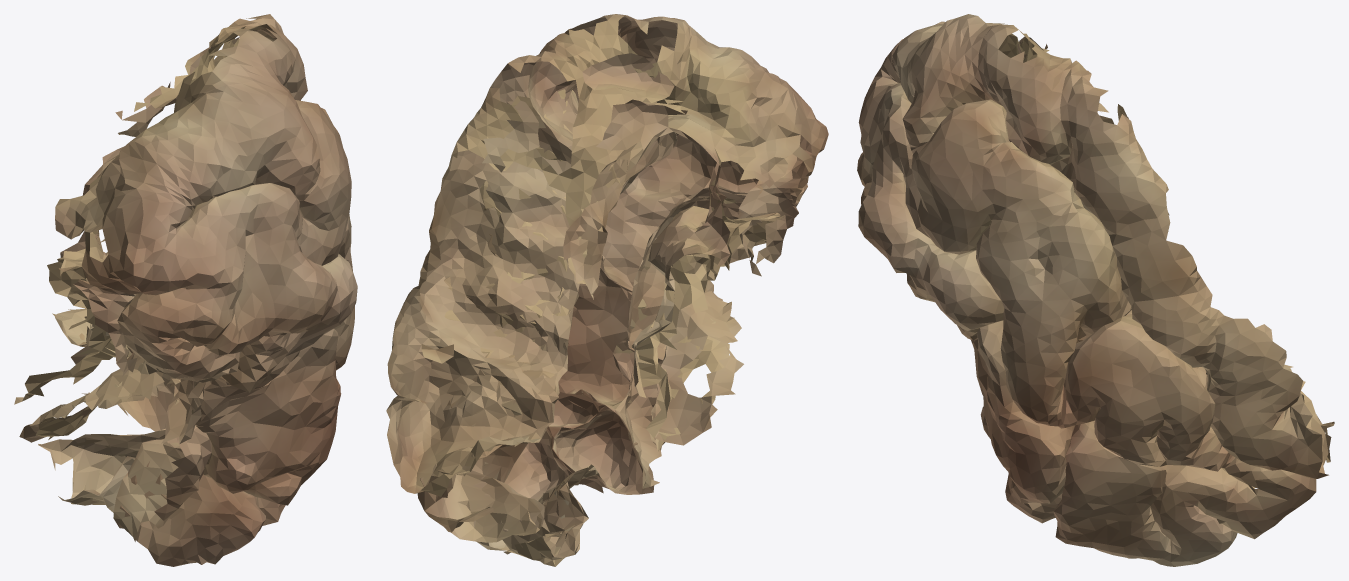
Rendered from L_Temporal_Lobe.obj.
3 renders of one model, left to right at view 1: azimuth 30°, elevation 25°; view 2: azimuth 150°, elevation 25°; view 3: azimuth 270°, elevation 25°, orthographic. The views are drawn at different scales.
Visible parts, largest first — view 1: L_Temporal_Lobe_R_Cortex_textured.005; view 2: L_Temporal_Lobe_R_Cortex_textured.005; view 3: L_Temporal_Lobe_R_Cortex_textured.005.
Boxes of the visible parts, bbox=[...] form: L_Temporal_Lobe_R_Cortex_textured.005: bbox=[14, 14, 357, 566]; L_Temporal_Lobe_R_Cortex_textured.005: bbox=[386, 14, 828, 566]; L_Temporal_Lobe_R_Cortex_textured.005: bbox=[857, 14, 1334, 566].
Size of the model in its own units: 193 by 314 by 260.
